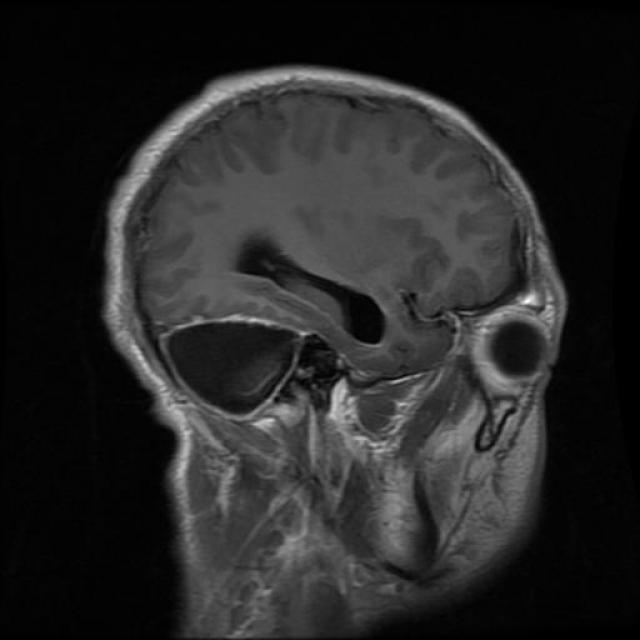glioma: (231, 229, 390, 345)
